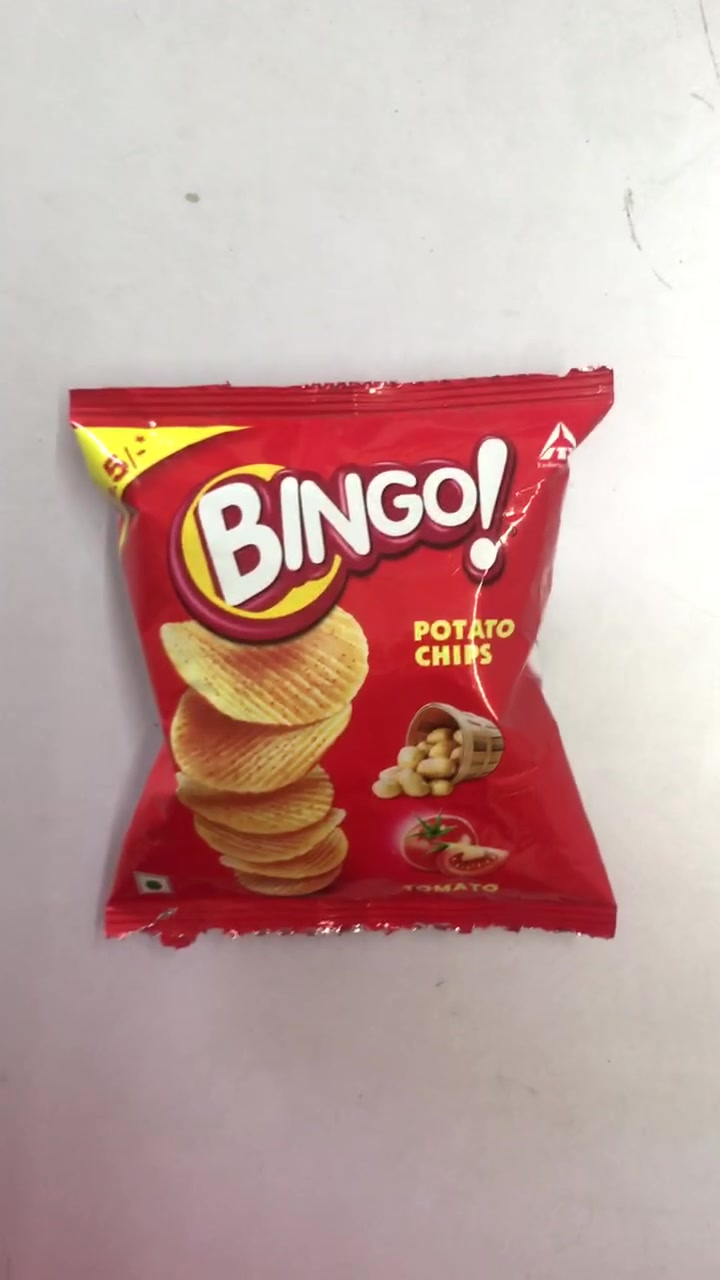Bingo: (76, 382, 619, 941)
